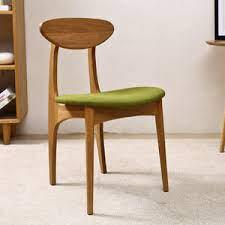chair: (28, 16, 177, 218)
